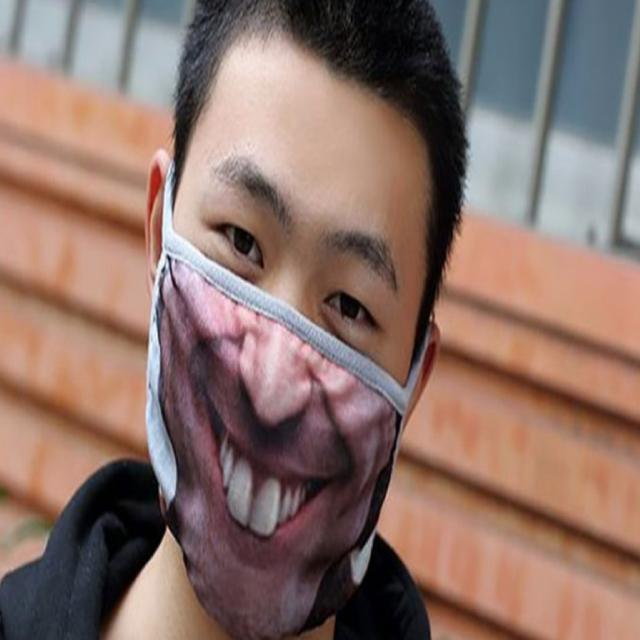adult: (71, 0, 468, 640)
